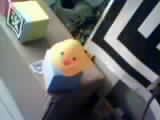duck: (44, 34, 91, 73)
